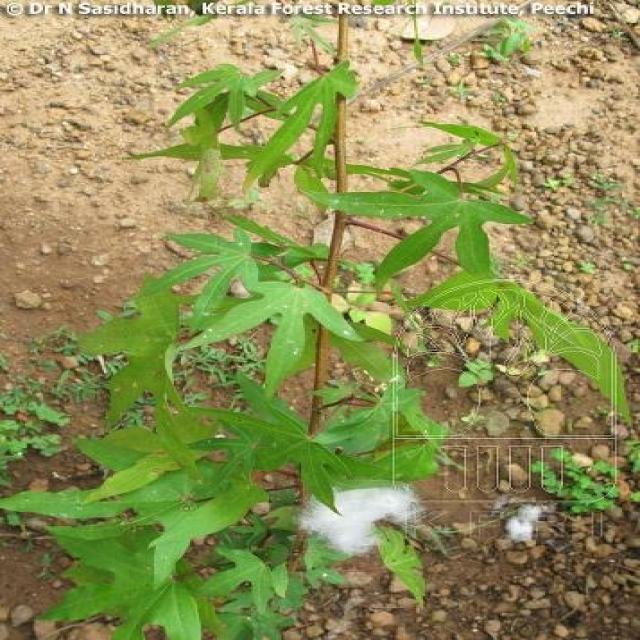Early_blight: (305, 485, 419, 553)
